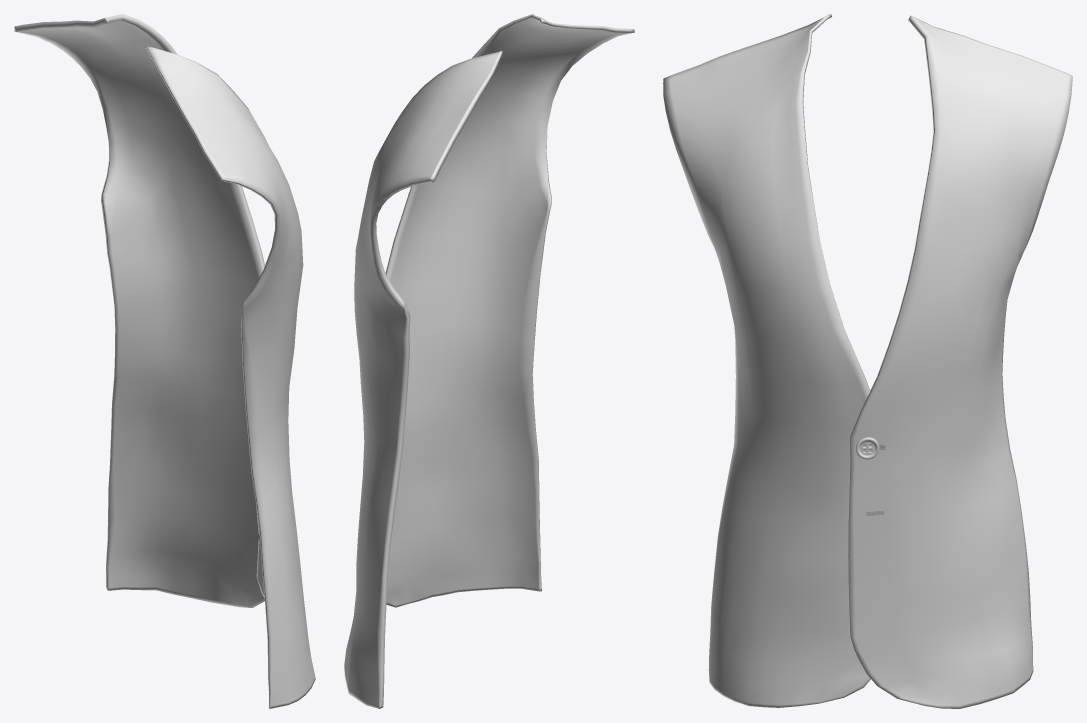
The picture shows the model from 3 angles, left to right: view 1: azimuth 30°, elevation 25°; view 2: azimuth 150°, elevation 25°; view 3: azimuth 270°, elevation 25°; orthographic projection.
Parts seen in each view (by area): view 1: SM_J__FrontB2; view 2: SM_J__FrontB2; view 3: SM_J__FrontB2.
Part boxes in pixels (<box>): SM_J__FrontB2: <box>14,14,315,708</box>; SM_J__FrontB2: <box>344,14,634,708</box>; SM_J__FrontB2: <box>663,14,1072,708</box>.
Bounding box in the file's own units: 1.07 × 4.04 × 2.38.
4 materials, 1 textured.
